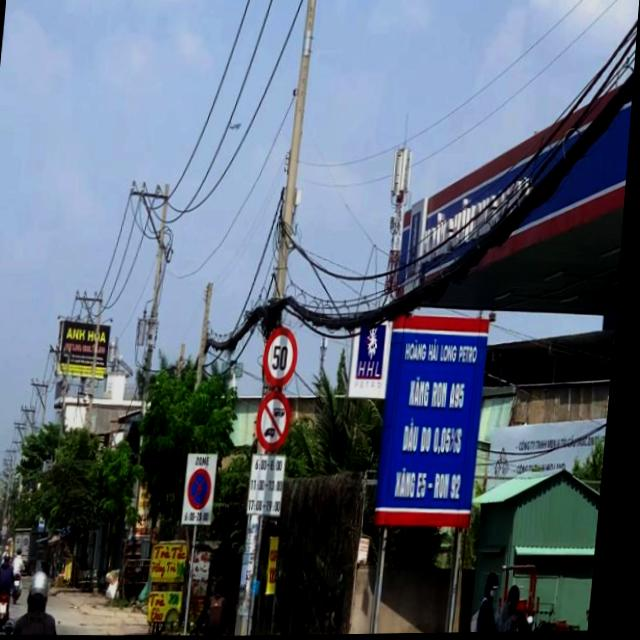Cam dung xe va do xe: (193, 468, 221, 510)
Toc do toi da cho phep: (266, 327, 306, 388)
